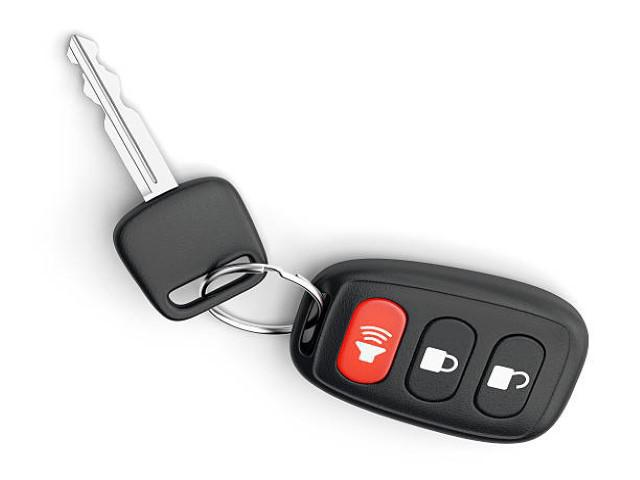key: (59, 31, 271, 271)
